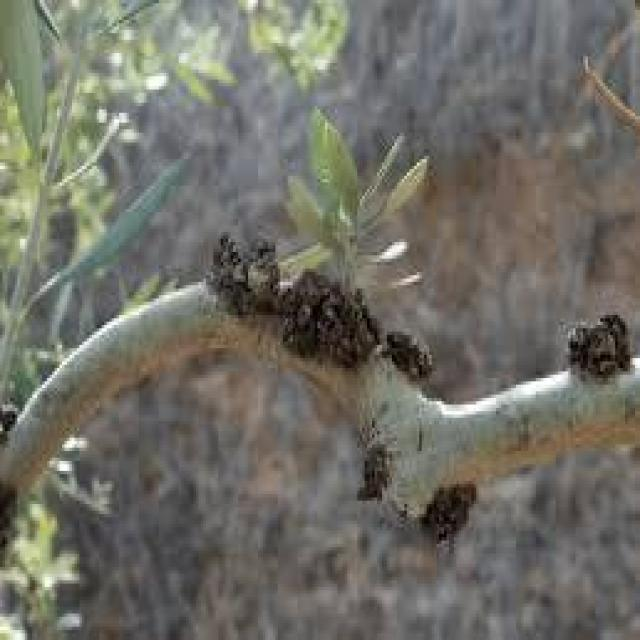Tuberculosis: (206, 232, 429, 381), (572, 312, 638, 381), (423, 479, 475, 548)
